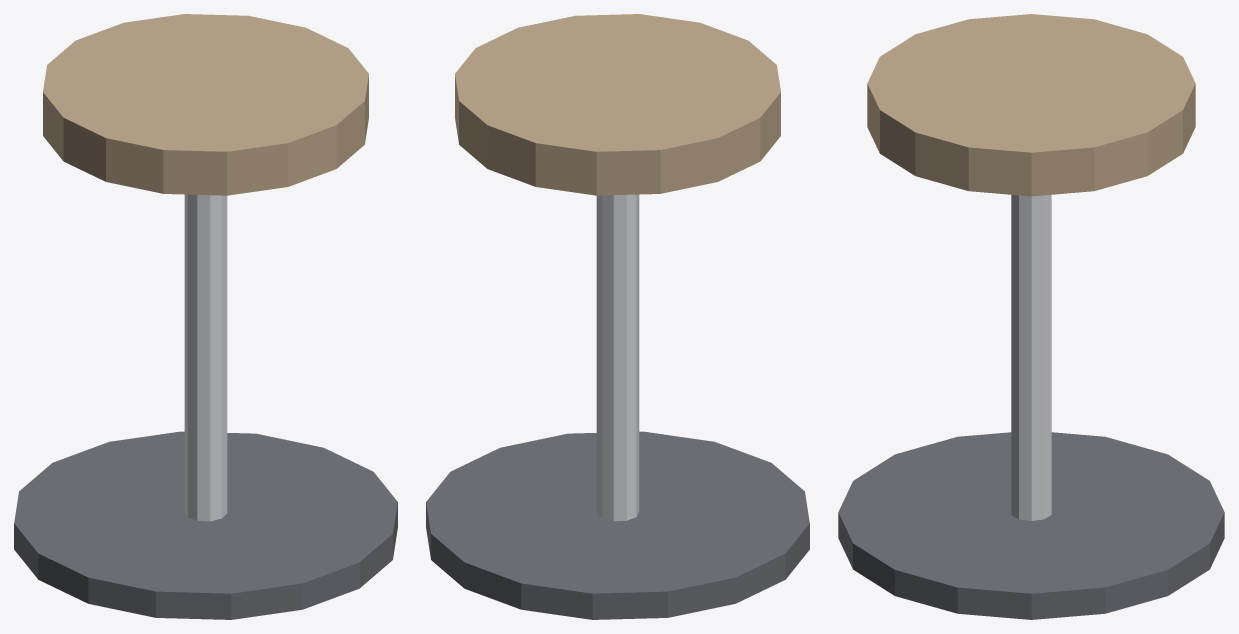
File: human-anatomy-and-education-kit-stool-classroom-b0420d9d__38972.glb
The picture shows the model from 3 angles, left to right: view 1: azimuth 30°, elevation 25°; view 2: azimuth 150°, elevation 25°; view 3: azimuth 270°, elevation 25°; orthographic projection.
Parts seen in each view (by area): view 1: stool-classroom; view 2: stool-classroom; view 3: stool-classroom.
Boxes of the visible parts, x1,y1,x2,y2 form: stool-classroom: (14,14,397,619); stool-classroom: (426,14,809,619); stool-classroom: (838,14,1224,619).
Bounding box in the file's own units: 0.4 × 0.52 × 0.4.
